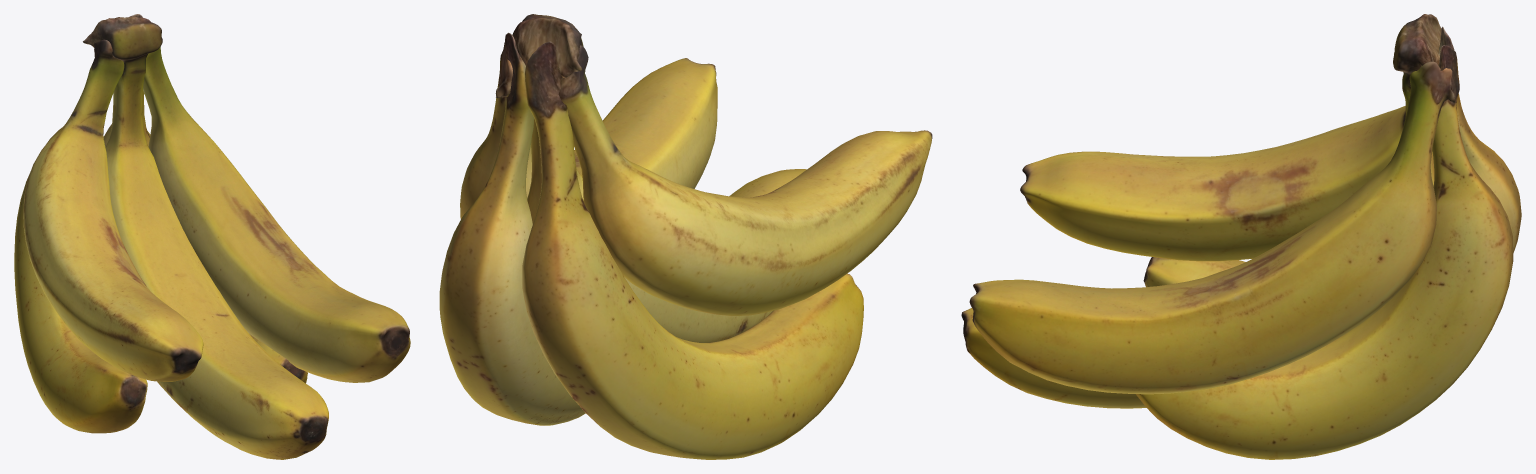
Rendered from bananas.glb.
3 renders of one model, left to right at view 1: azimuth 30°, elevation 25°; view 2: azimuth 150°, elevation 25°; view 3: azimuth 270°, elevation 25°, orthographic. The views are drawn at different scales.
Visible parts, largest first — view 1: bananas_bunch; view 2: bananas_bunch; view 3: bananas_bunch.
Part boxes in pixels (<box>): bananas_bunch: <box>14,14,410,459</box>; bananas_bunch: <box>439,14,932,459</box>; bananas_bunch: <box>961,14,1521,459</box>.
Size of the model in its own units: 0.1339 by 0.1788 by 0.2229.
1 material, 1 textured.
